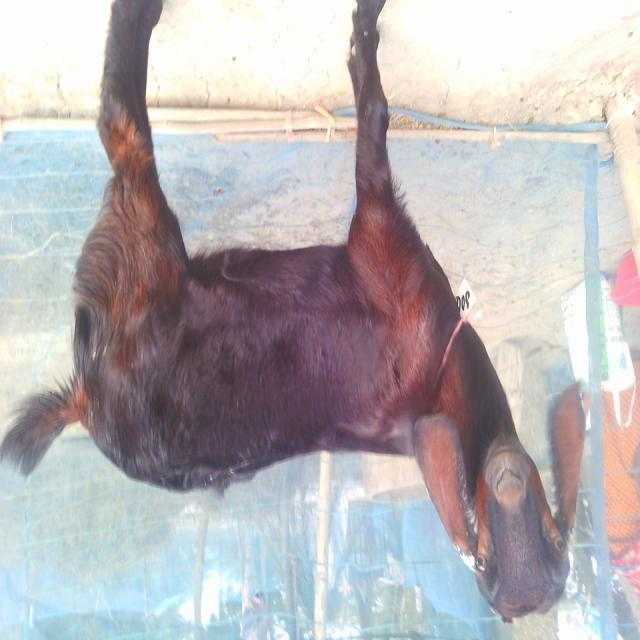Goat: (2, 2, 589, 626)
